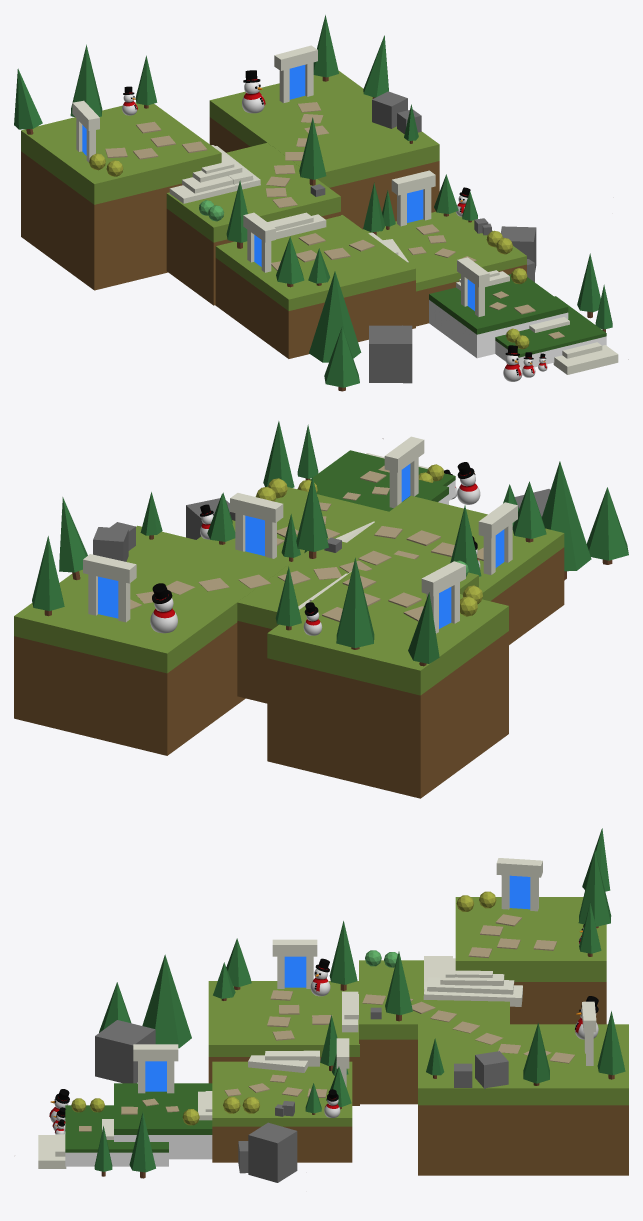
File: environment.glb
The picture shows the model from 3 angles, top to bottom: view 1: azimuth 30°, elevation 25°; view 2: azimuth 150°, elevation 25°; view 3: azimuth 270°, elevation 25°; orthographic projection. The views are drawn at different scales.
Parts seen in each view (by area): view 1: terrain.008, terrain.005, terrain.007, terrain.004, terrain.001, terrain.002, terrain.003, rocks, trees.009, trees.010, stairs, trees.017 (+20 smaller); view 2: terrain.008, terrain.007, terrain.005, terrain.004, terrain.001, terrain.002, trees.009, trees.017, trees.010, trees.015, trees.002, trees.013 (+18 smaller); view 3: terrain.007, terrain.008, terrain.001, terrain.004, terrain.005, terrain.002, terrain.003, rocks, rocks.007, trees.009, trees.017, rocks.002 (+22 smaller).
Boxes of the visible parts, <box> form: terrain.008: <box>21,102,221,290</box>; terrain.005: <box>215,215,415,358</box>; terrain.007: <box>209,70,439,229</box>; terrain.004: <box>166,142,340,305</box>; terrain.001: <box>363,211,526,326</box>; terrain.002: <box>429,274,568,358</box>; terrain.003: <box>495,296,606,369</box>; rocks: <box>369,325,412,383</box>; trees.009: <box>309,271,361,362</box>; trees.010: <box>324,326,359,391</box>; stairs: <box>553,345,618,374</box>; trees.017: <box>70,44,102,116</box>; terrain.008: <box>267,569,508,798</box>; terrain.007: <box>14,525,290,755</box>; terrain.005: <box>347,495,564,644</box>; terrain.004: <box>237,538,478,703</box>; terrain.001: <box>197,487,388,562</box>; terrain.002: <box>313,460,448,511</box>; trees.009: <box>542,461,591,580</box>; trees.017: <box>336,557,374,649</box>; trees.010: <box>586,487,628,564</box>; trees.015: <box>296,477,328,558</box>; trees.002: <box>32,536,64,616</box>; trees.013: <box>59,497,87,580</box>; terrain.007: <box>418,1024,628,1175</box>; terrain.008: <box>455,897,606,1024</box>; terrain.001: <box>212,1061,352,1162</box>; terrain.004: <box>359,960,509,1104</box>; terrain.005: <box>208,981,359,1105</box>; terrain.002: <box>114,1083,212,1159</box>; terrain.003: <box>65,1105,168,1166</box>; rocks: <box>95,1020,155,1083</box>; rocks.007: <box>248,1122,297,1182</box>; trees.009: <box>142,954,191,1048</box>; trees.017: <box>578,850,611,928</box>; rocks.002: <box>475,1051,508,1088</box>.
Size of what is drawn, in the model's own units: 27.23 by 10.71 by 31.04.
